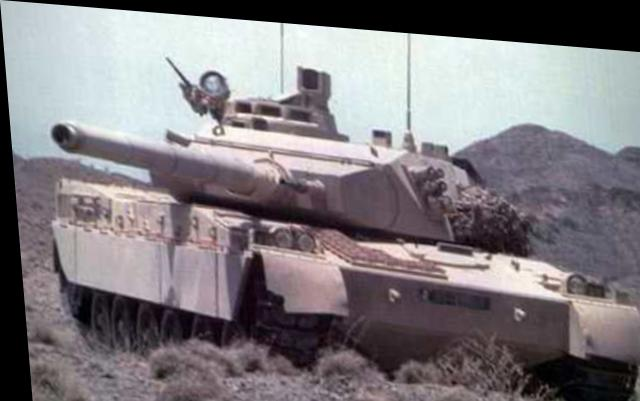tank: (55, 116, 531, 385)
